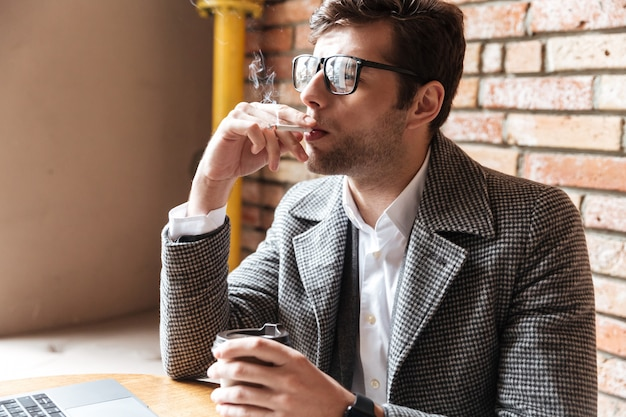cigarette: (267, 122, 315, 134)
